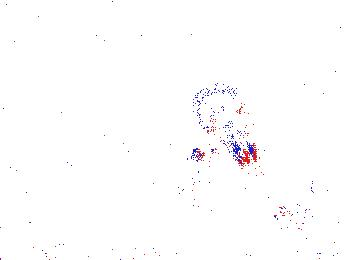flame jellyfish: (191, 82, 257, 165), (272, 174, 346, 228), (174, 146, 228, 219)
